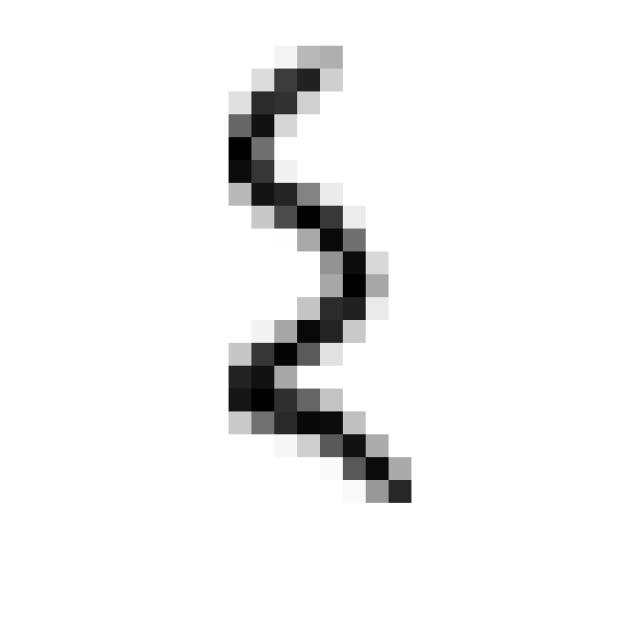4 -four-: (192, 18, 435, 522)
